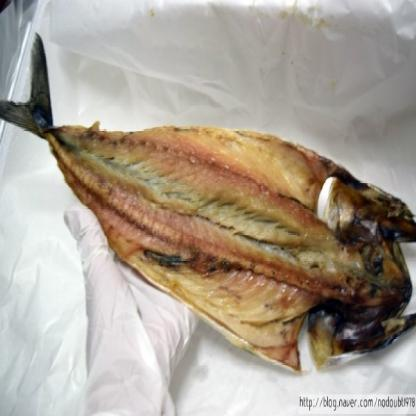Peixe: (0, 35, 416, 359)
